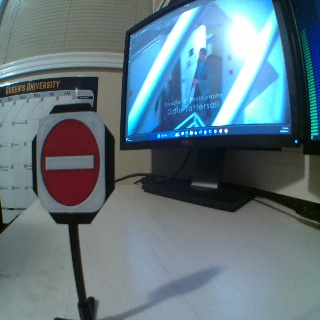sign_noentry: (35, 115, 107, 211)
